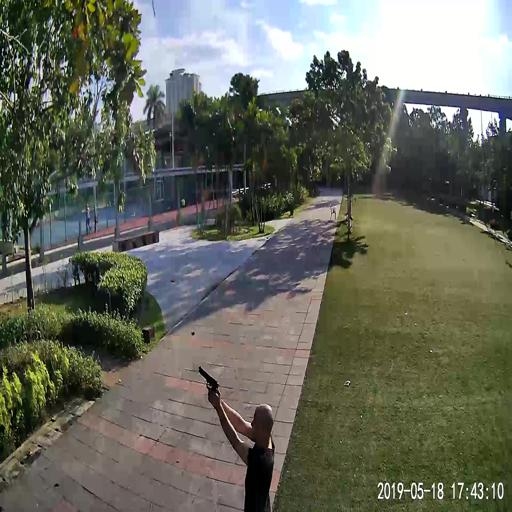pistol: (196, 363, 219, 395)
